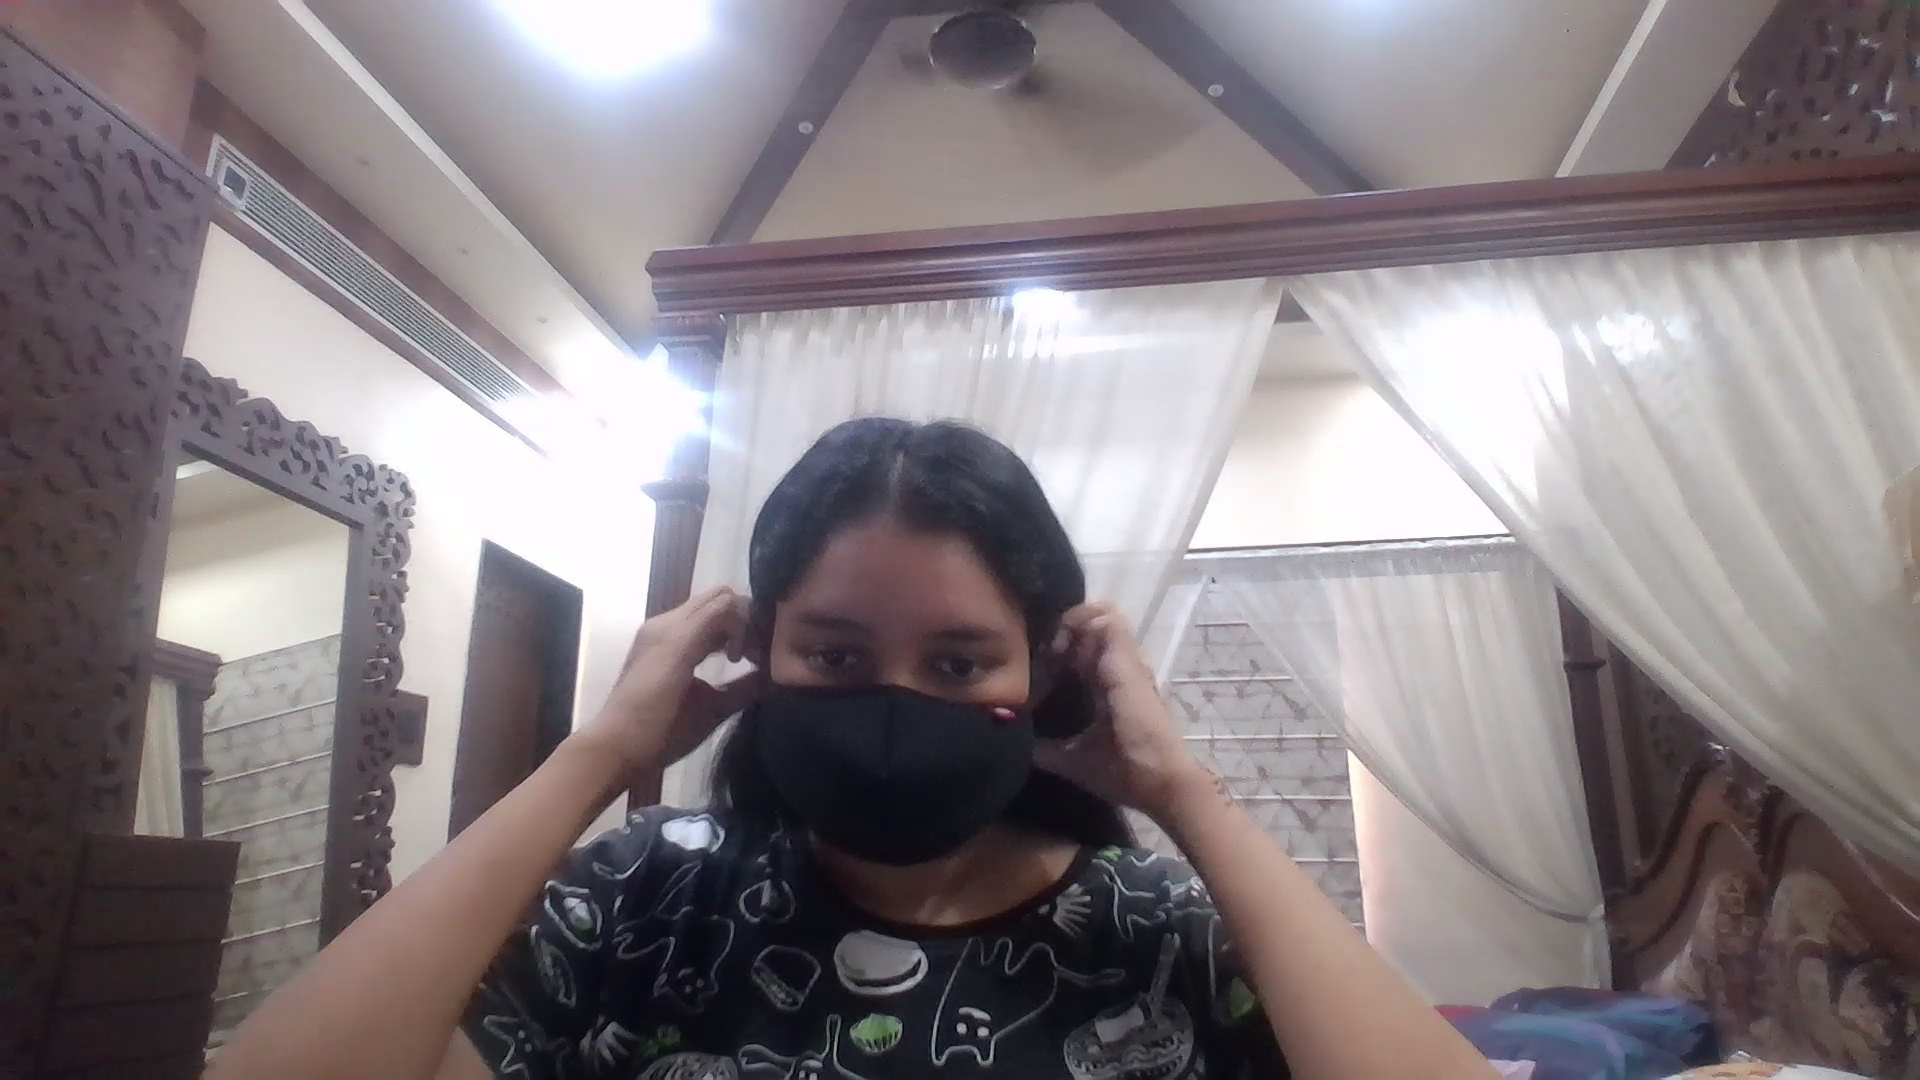Mask: (740, 689, 1032, 881)
